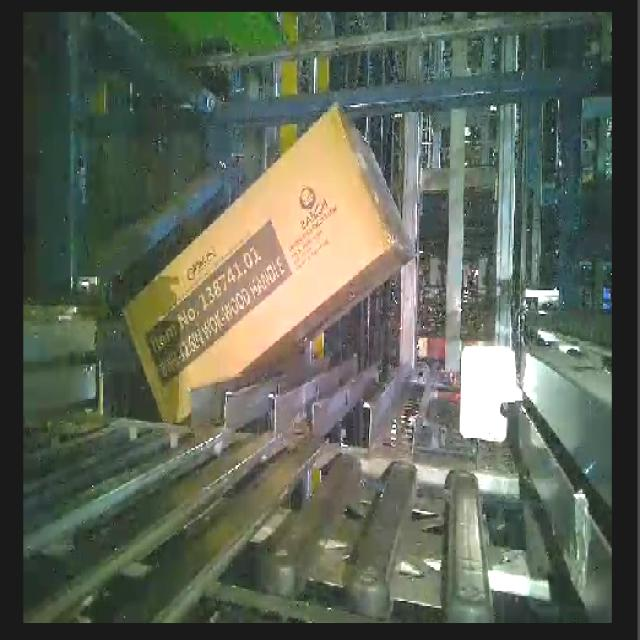box: (82, 100, 438, 449)
